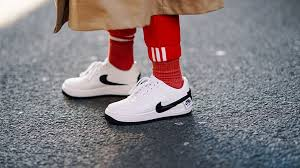nike: (143, 86, 198, 119), (98, 64, 139, 94)
